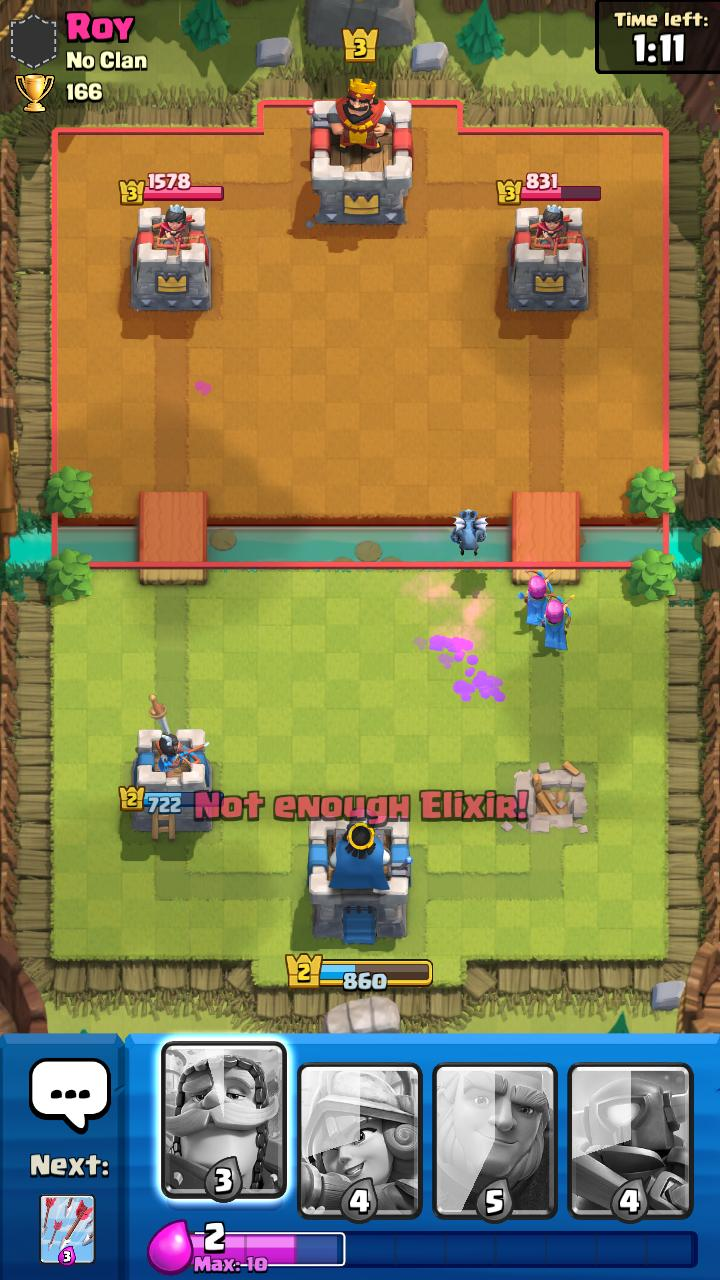ally: (534, 593, 575, 651), (517, 568, 556, 626), (451, 509, 489, 556)
